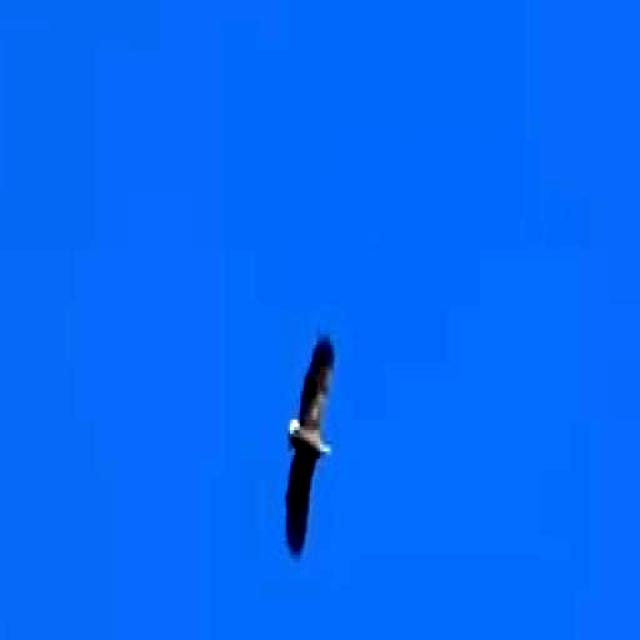airplane: (264, 300, 362, 561)
